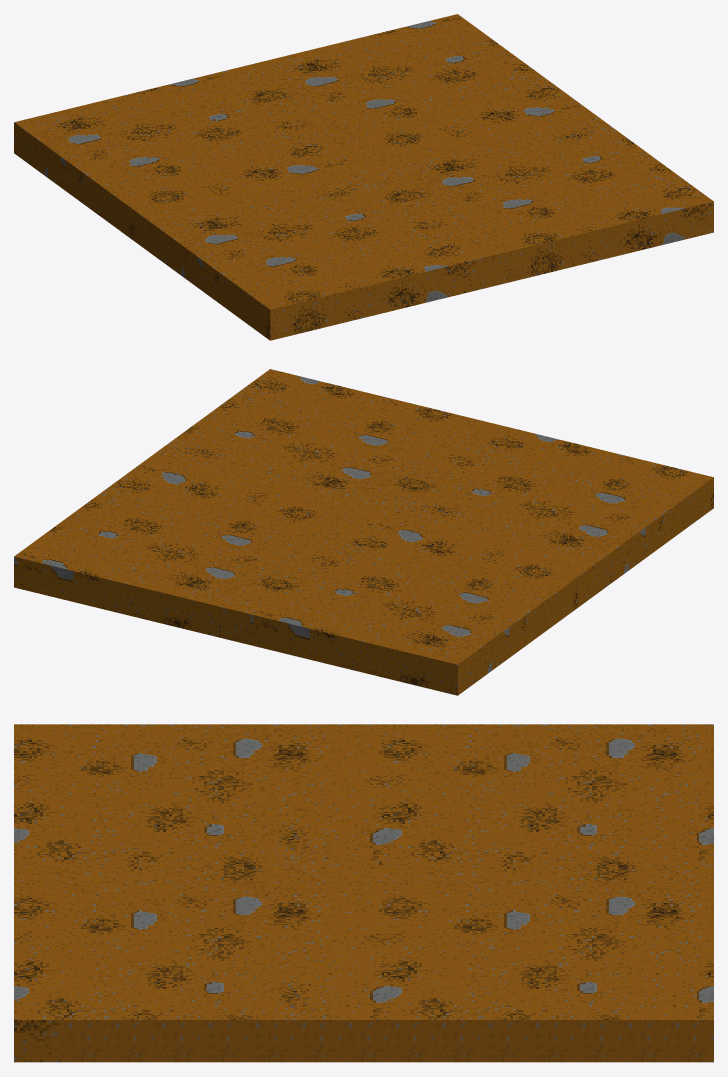
Rendered from NewFloor3D.gltf.
3 renders of one model, top to bottom at view 1: azimuth 30°, elevation 25°; view 2: azimuth 150°, elevation 25°; view 3: azimuth 270°, elevation 25°, orthographic. The views are drawn at different scales.
Parts seen in each view (by area): view 1: default; view 2: default; view 3: default.
Boxes of the visible parts, bbox=[...] form: default: bbox=[14, 14, 713, 340]; default: bbox=[14, 369, 713, 695]; default: bbox=[14, 724, 713, 1062].
Bounding box in the file's own units: 15 × 1.01 × 15.
Materials: 1 (1 with a texture image).
